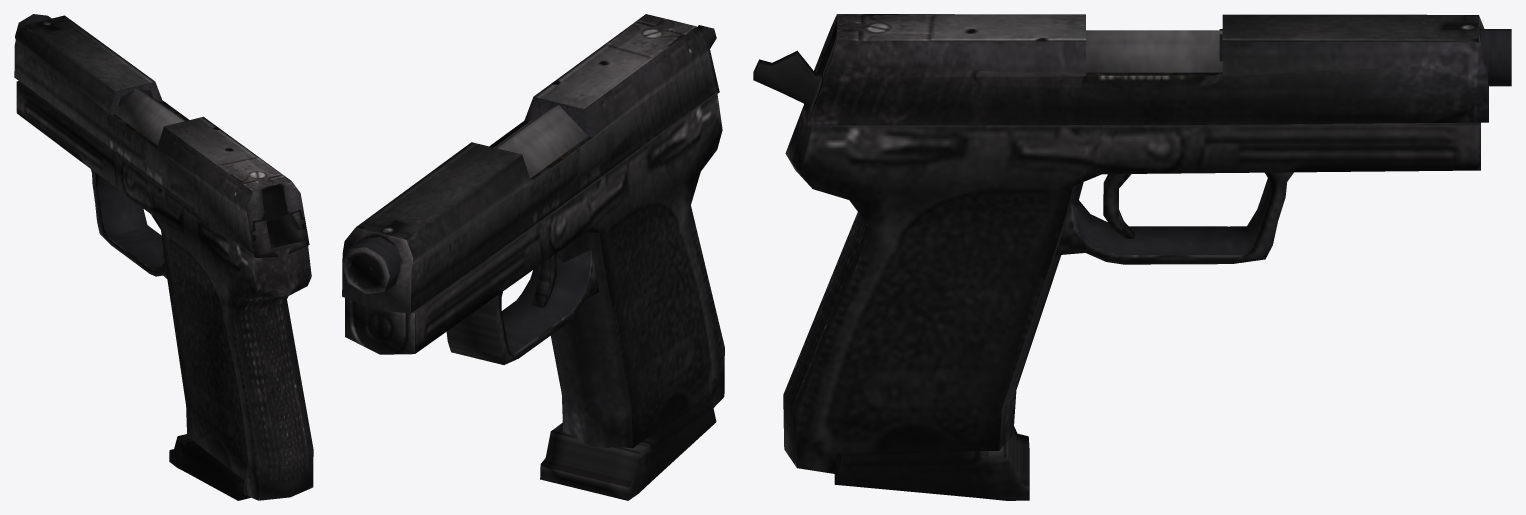
The model's file is usp.fbx.
3 views of the same model, side by side, from view 1: azimuth 30°, elevation 25°; view 2: azimuth 150°, elevation 25°; view 3: azimuth 270°, elevation 25° (orthographic). The views are drawn at different scales.
Visible parts, largest first — view 1: Cube, Cube.001, Cube.005, Cube.003, Cylinder.001; view 2: Cube, Cube.001, Cube.005, Cylinder.001, Cube.004; view 3: Cube, Cube.001, Cube.005, Cube.003, Cylinder.001, Cube.004.
Boxes of the visible parts, x1=… form: Cube: x1=16, y1=81, x2=313, y2=500; Cube.001: x1=14, y1=15, x2=309, y2=257; Cube.005: x1=169, y1=434, x2=250, y2=500; Cube.003: x1=266, y1=213, x2=306, y2=247; Cylinder.001: x1=15, y1=14, x2=152, y2=106; Cube: x1=345, y1=92, x2=724, y2=448; Cube.001: x1=342, y1=14, x2=719, y2=313; Cube.005: x1=540, y1=400, x2=716, y2=500; Cylinder.001: x1=342, y1=236, x2=400, y2=293; Cube.004: x1=531, y1=254, x2=556, y2=307; Cube: x1=783, y1=30, x2=1480, y2=474; Cube.001: x1=803, y1=14, x2=1488, y2=127; Cube.005: x1=834, y1=426, x2=1029, y2=500; Cube.003: x1=753, y1=50, x2=822, y2=106; Cylinder.001: x1=1219, y1=29, x2=1511, y2=86; Cube.004: x1=1103, y1=174, x2=1134, y2=238.
Size of the model in its own units: 62.37 by 275 by 420.
